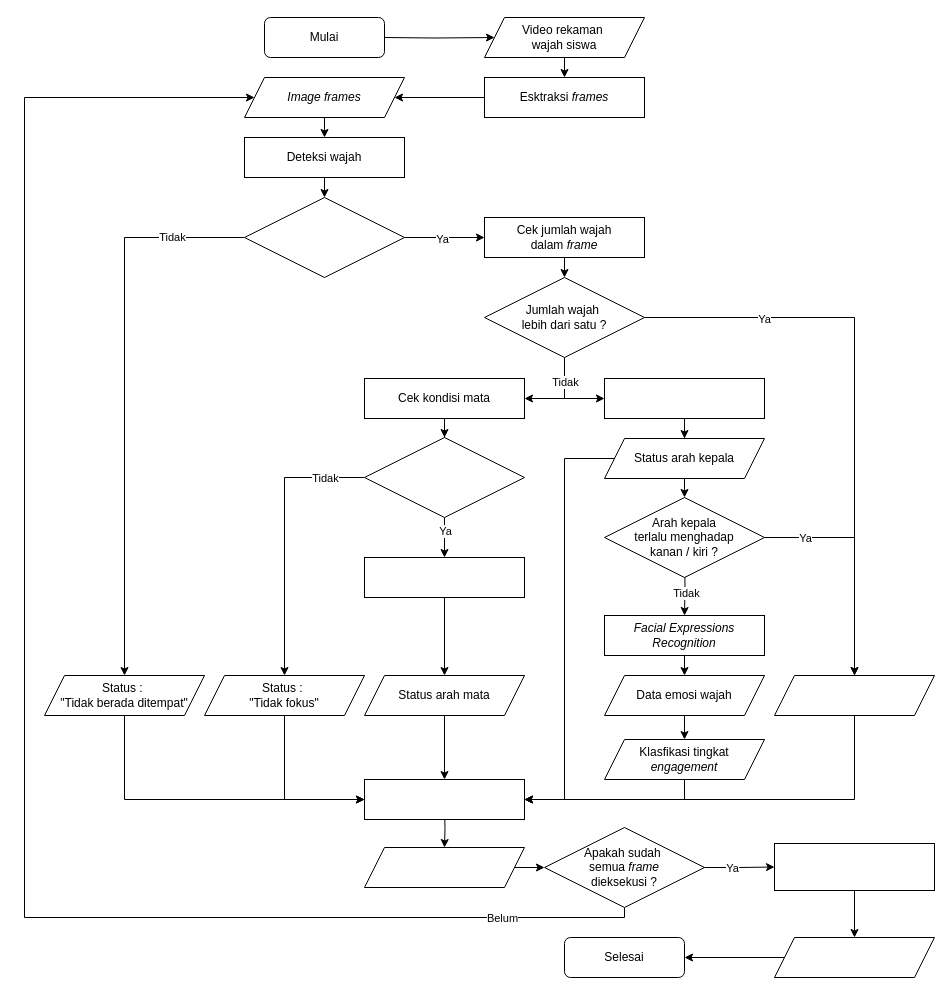
Some shapes in this 952 by 995 pixel diagram are drawn without their labels. The box of each missing label's shape, as (x1, y1, x2, y2) in pixels:
Analisis: (364, 778, 524, 820)
Analisis dengan LLM: (774, 842, 934, 890)
Apakah mata terbuka ?: (364, 436, 524, 518)
Cek arah kepala: (604, 378, 764, 418)
Cek arah mata: (364, 556, 524, 598)
Rangkuman Engagement siswa: (774, 936, 934, 978)
Status : "fokus" / "tidak fokus": (364, 846, 524, 888)
Status : "Terdistraksi": (774, 674, 934, 716)
Wajah terdeteksi ?: (244, 196, 404, 278)
